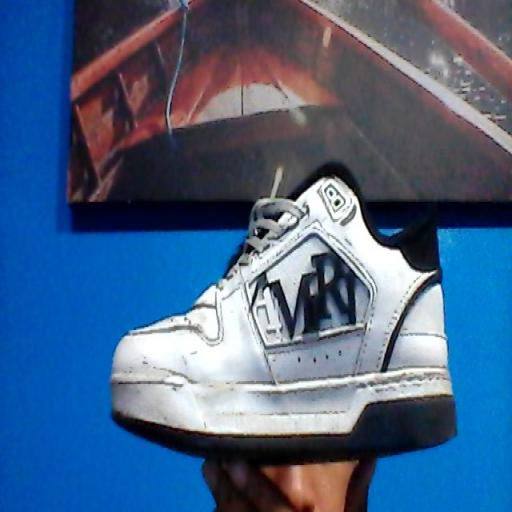shoe: (111, 166, 456, 462)
